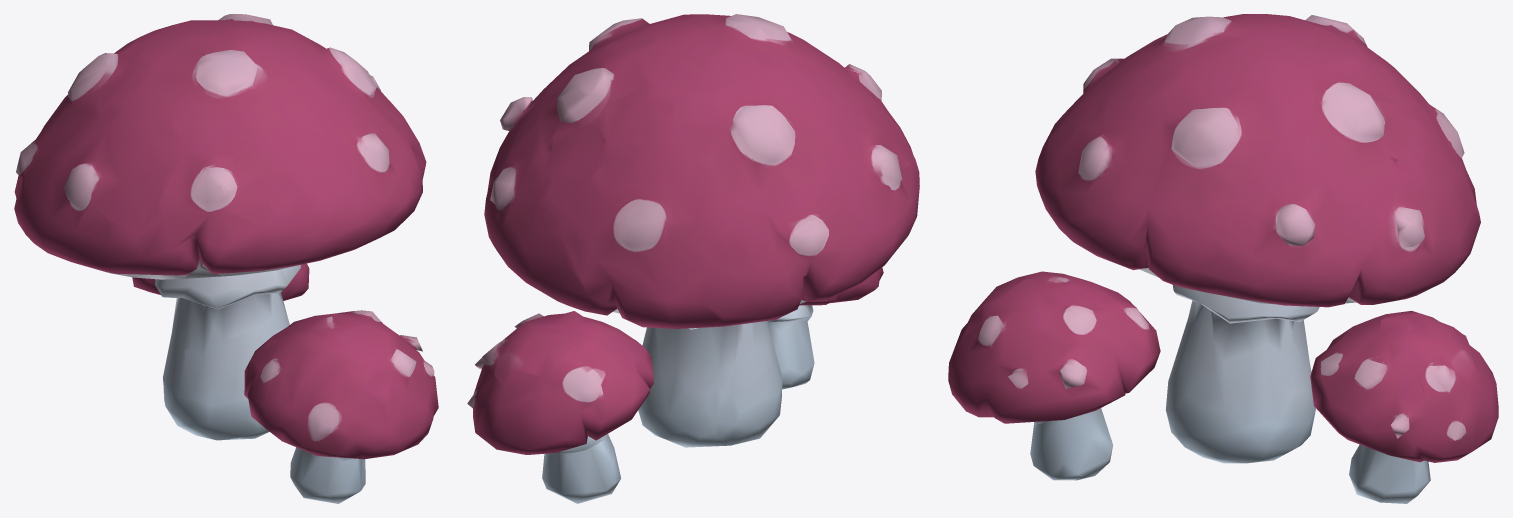
Rendered from mushroom.glb.
3 renders of one model, left to right at view 1: azimuth 30°, elevation 25°; view 2: azimuth 150°, elevation 25°; view 3: azimuth 270°, elevation 25°, orthographic. The views are drawn at different scales.
Parts seen in each view (by area): view 1: tripo_node_5b96fa5d-db95-42e7-b072-30c893193932; view 2: tripo_node_5b96fa5d-db95-42e7-b072-30c893193932; view 3: tripo_node_5b96fa5d-db95-42e7-b072-30c893193932.
Part boxes in pixels (bbox=[...]): tripo_node_5b96fa5d-db95-42e7-b072-30c893193932: bbox=[14, 14, 438, 503]; tripo_node_5b96fa5d-db95-42e7-b072-30c893193932: bbox=[467, 14, 919, 503]; tripo_node_5b96fa5d-db95-42e7-b072-30c893193932: bbox=[948, 14, 1498, 503].
Bounding box in the file's own units: 0.8363 × 0.8948 × 1.04.
Materials: 1 (1 with a texture image).
